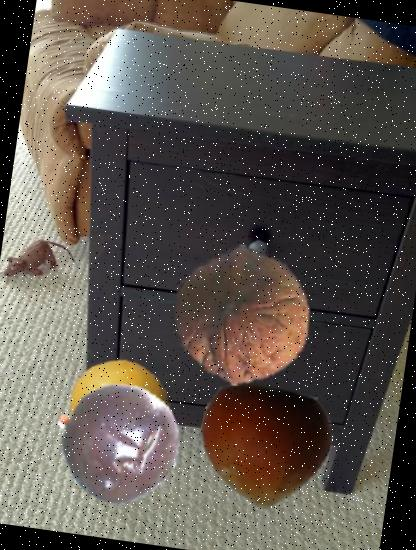Grapefruit: (63, 350, 176, 464)
Nut: (189, 373, 338, 522)
Passion: (46, 372, 188, 514)
Walnut: (163, 236, 322, 395)
